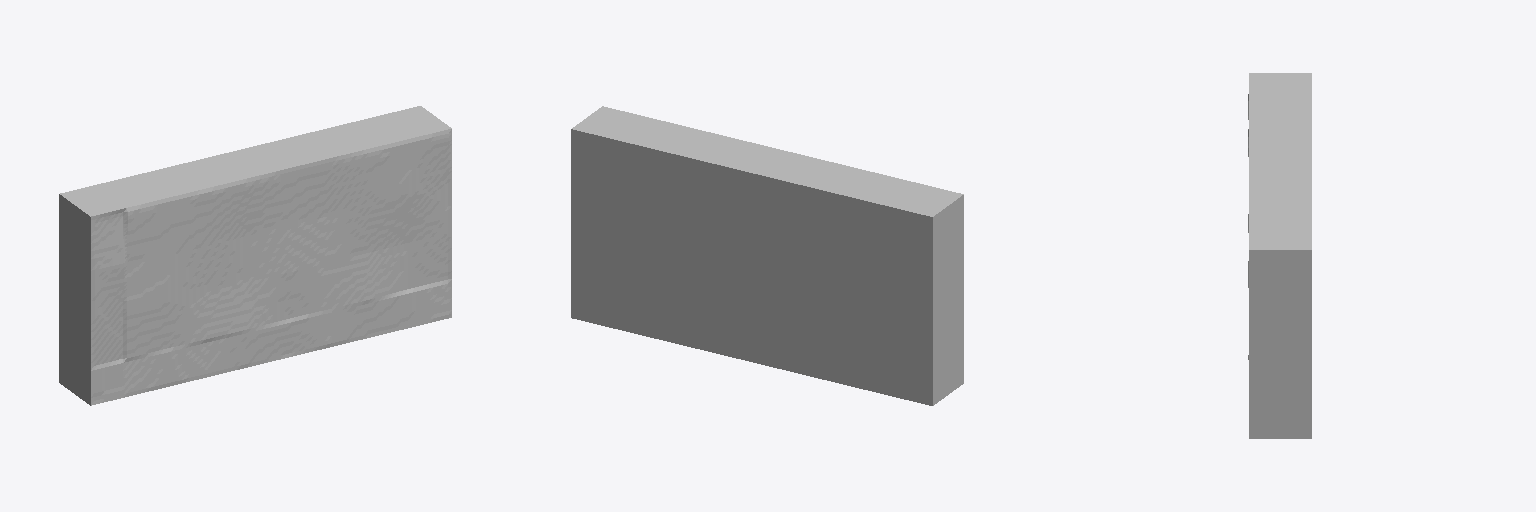
File: rectangular_prism_bumps_8_5.obj
The picture shows the model from 3 angles: view 1: azimuth 30°, elevation 25°; view 2: azimuth 150°, elevation 25°; view 3: azimuth 270°, elevation 25°; orthographic projection.
Size of the model in its own units: 10 by 5 by 1.53.